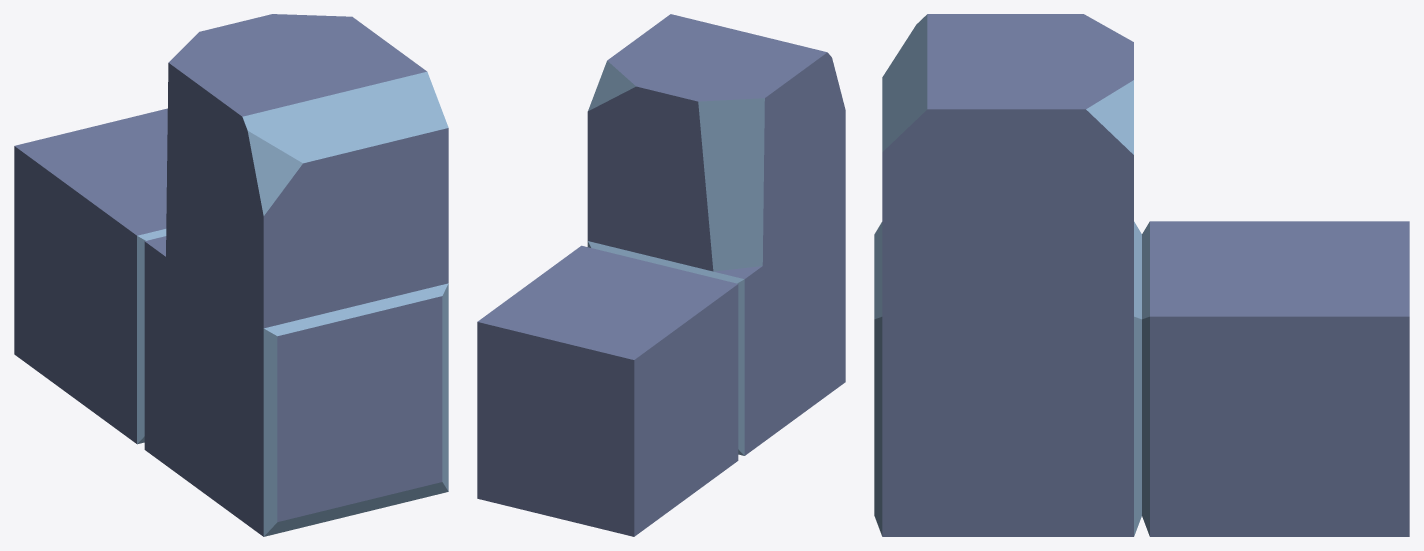
The model's file is Wall_Base_Balustrade_06.fbx.
3 views of the same model, side by side, from view 1: azimuth 30°, elevation 25°; view 2: azimuth 150°, elevation 25°; view 3: azimuth 270°, elevation 25° (orthographic). The views are drawn at different scales.
Parts seen in each view (by area): view 1: Wall_Base_Balustrade_05; view 2: Wall_Base_Balustrade_05; view 3: Wall_Base_Balustrade_05.
Part boxes in pixels (left/top/right/bottom): Wall_Base_Balustrade_05: left=14, top=14, right=448, bottom=536; Wall_Base_Balustrade_05: left=477, top=14, right=845, bottom=536; Wall_Base_Balustrade_05: left=874, top=14, right=1409, bottom=536.
Size of the model in its own units: 71.25 by 149 by 169.
